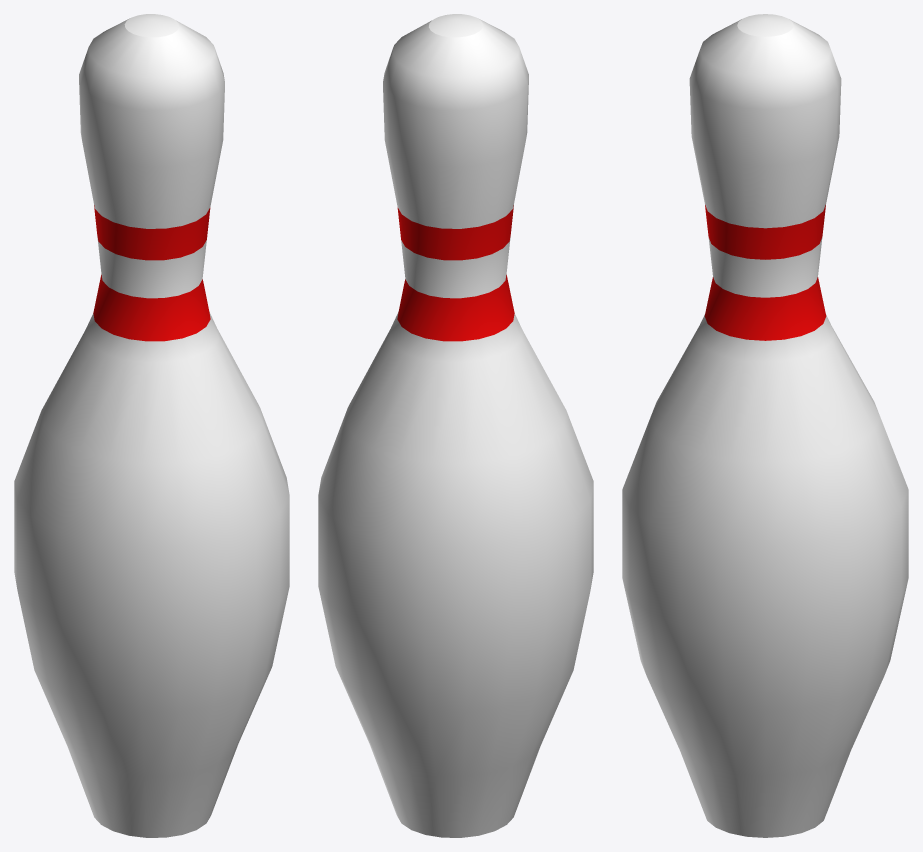
The model's file is pin2.fbx.
The picture shows the model from 3 angles, left to right: view 1: azimuth 30°, elevation 25°; view 2: azimuth 150°, elevation 25°; view 3: azimuth 270°, elevation 25°; orthographic projection.
Visible parts, largest first — view 1: pCylinder1; view 2: pCylinder1; view 3: pCylinder1.
Part boxes in pixels (box(x1,y1,x2,y2)): pCylinder1: box(14, 14, 289, 837); pCylinder1: box(318, 14, 593, 837); pCylinder1: box(622, 14, 908, 837).
Size of the model in its own units: 3.02 by 9.66 by 3.15.
Materials: 1 (1 with a texture image).
